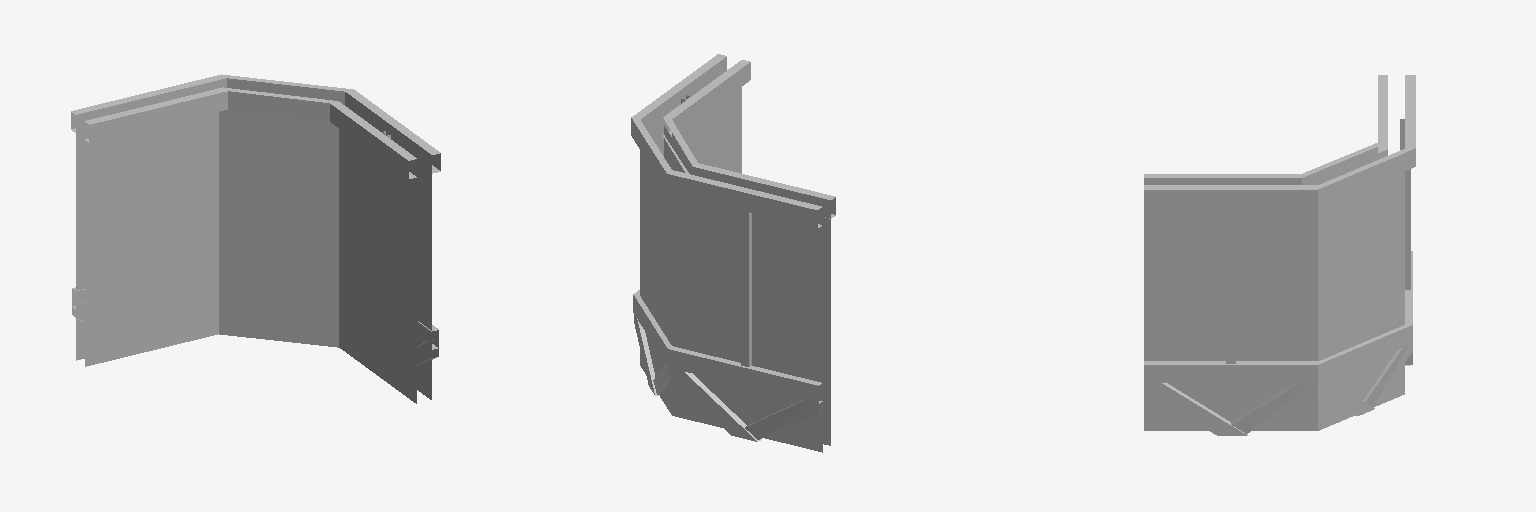
Rendered from Overhang_Plaster_Corner_Front.obj.
3 views of the same model, side by side, from view 1: azimuth 30°, elevation 25°; view 2: azimuth 150°, elevation 25°; view 3: azimuth 270°, elevation 25° (orthographic).
Parts seen in each view (by area): view 1: Overhang_Plaster_Corner_Front; view 2: Overhang_Plaster_Corner_Front; view 3: Overhang_Plaster_Corner_Front.
Part boxes in pixels (left/top/right/bottom): Overhang_Plaster_Corner_Front: left=71, top=74, right=440, bottom=403; Overhang_Plaster_Corner_Front: left=631, top=54, right=835, bottom=452; Overhang_Plaster_Corner_Front: left=1144, top=75, right=1415, bottom=435.
Bounding box in the file's own units: 3.12 × 3.14 × 3.12.